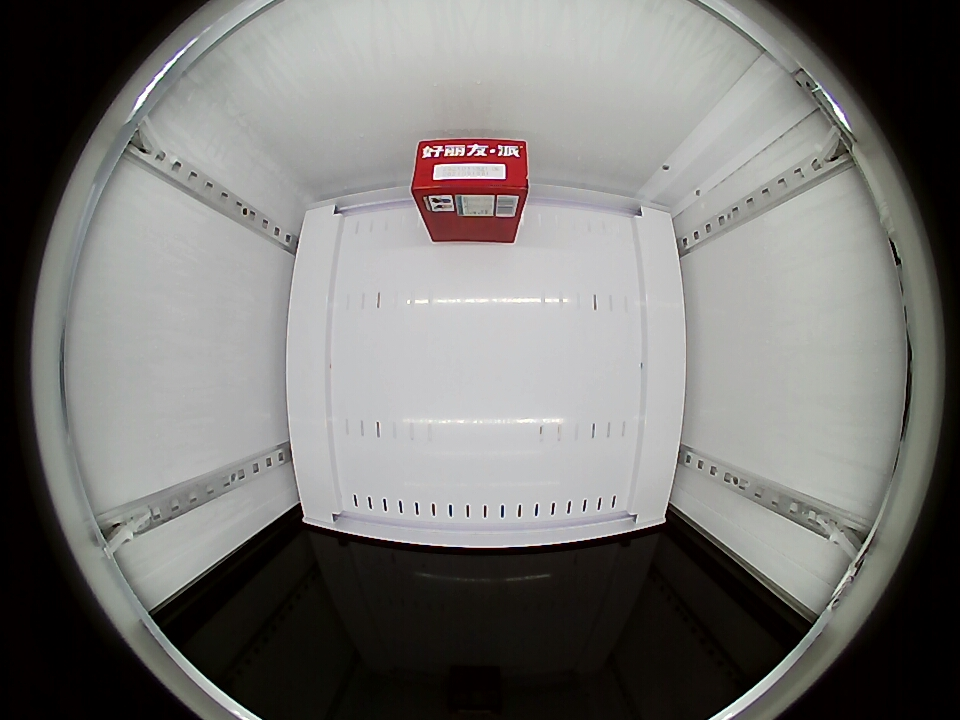haoliyou: (411, 136, 530, 241)
